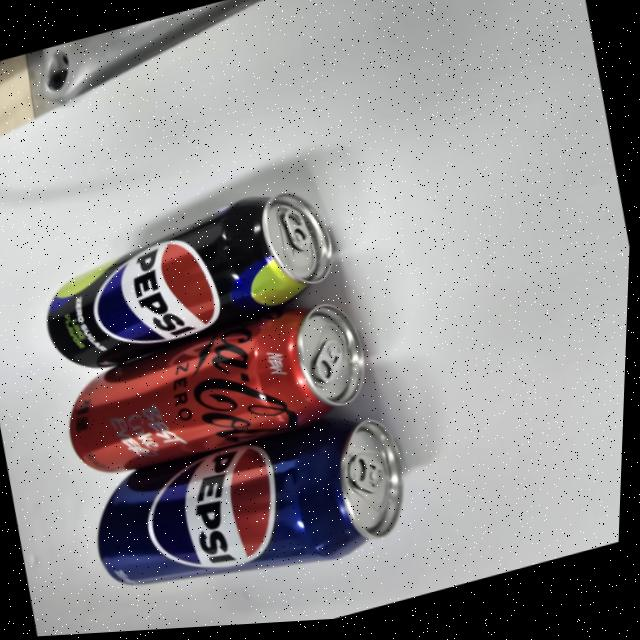can_coke_zero: (63, 304, 362, 478)
can_pepsi: (95, 422, 405, 588)
can_pepsi_zero: (48, 194, 331, 374)
